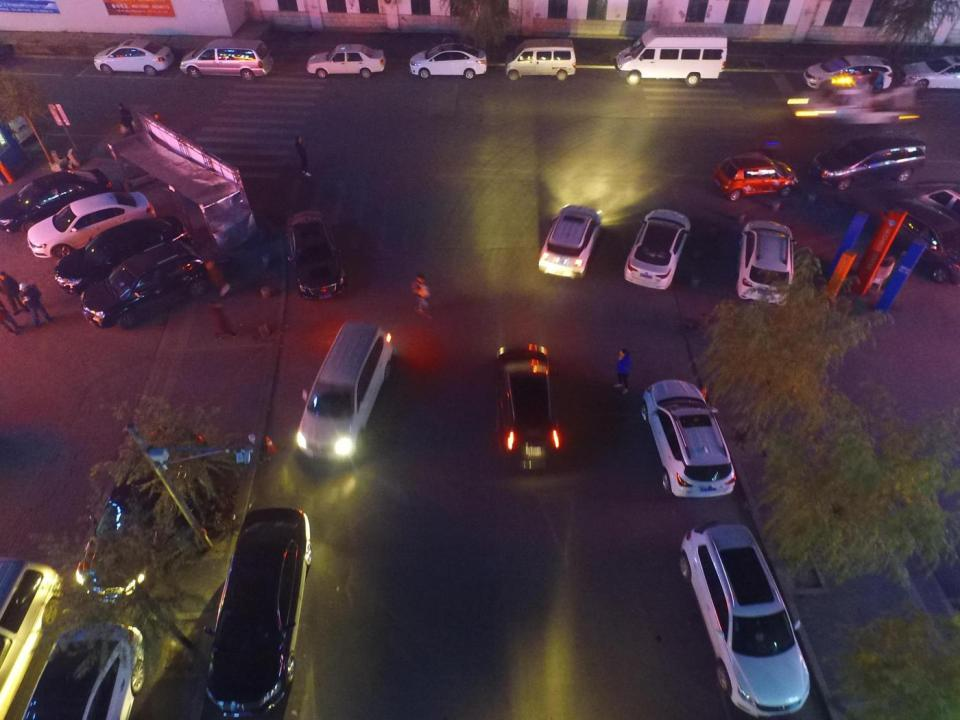car: (680, 521, 810, 717), (75, 427, 211, 603), (204, 506, 311, 716), (22, 622, 144, 720), (641, 379, 736, 498), (80, 240, 208, 326), (53, 216, 192, 294), (491, 343, 562, 469), (28, 192, 156, 258), (19, 168, 112, 232), (286, 210, 345, 301), (623, 209, 689, 288), (736, 221, 797, 304), (538, 204, 602, 280), (712, 154, 798, 202), (802, 54, 892, 91), (94, 39, 174, 76), (306, 43, 386, 78), (408, 44, 486, 79), (899, 55, 960, 89)
truck: (787, 79, 916, 127)
van: (295, 320, 393, 461), (0, 559, 62, 720), (808, 129, 925, 191), (613, 25, 727, 86), (877, 201, 960, 284), (180, 38, 273, 82), (505, 37, 575, 80), (910, 186, 960, 239)
